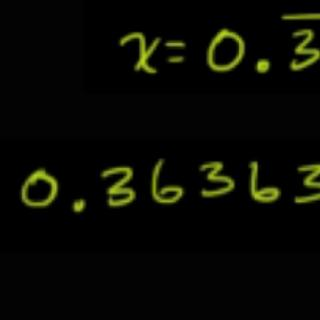.: (253, 56, 272, 75), (70, 196, 87, 216)
0: (18, 164, 61, 214), (204, 26, 246, 76)
3: (101, 161, 136, 214), (198, 157, 237, 201), (290, 22, 320, 73), (293, 156, 320, 209)
6: (148, 154, 187, 209), (247, 157, 281, 205)
